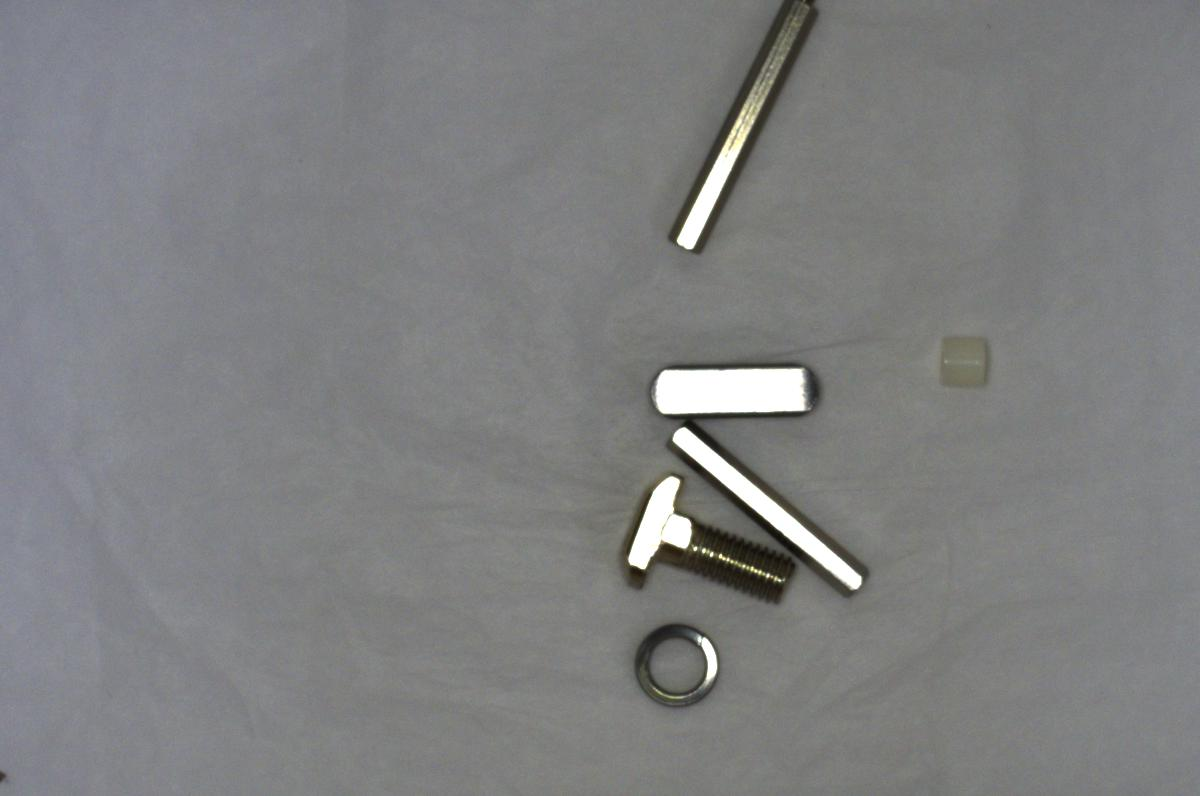Double hexagonal column: (656, 415, 871, 603)
Hexagonal steel column: (650, 0, 853, 259)
Keybar: (639, 348, 834, 430)
Plastic cushion pillar: (921, 322, 1002, 400)
Spring washer: (617, 609, 741, 732)
T-shaped screw: (612, 472, 796, 612)
